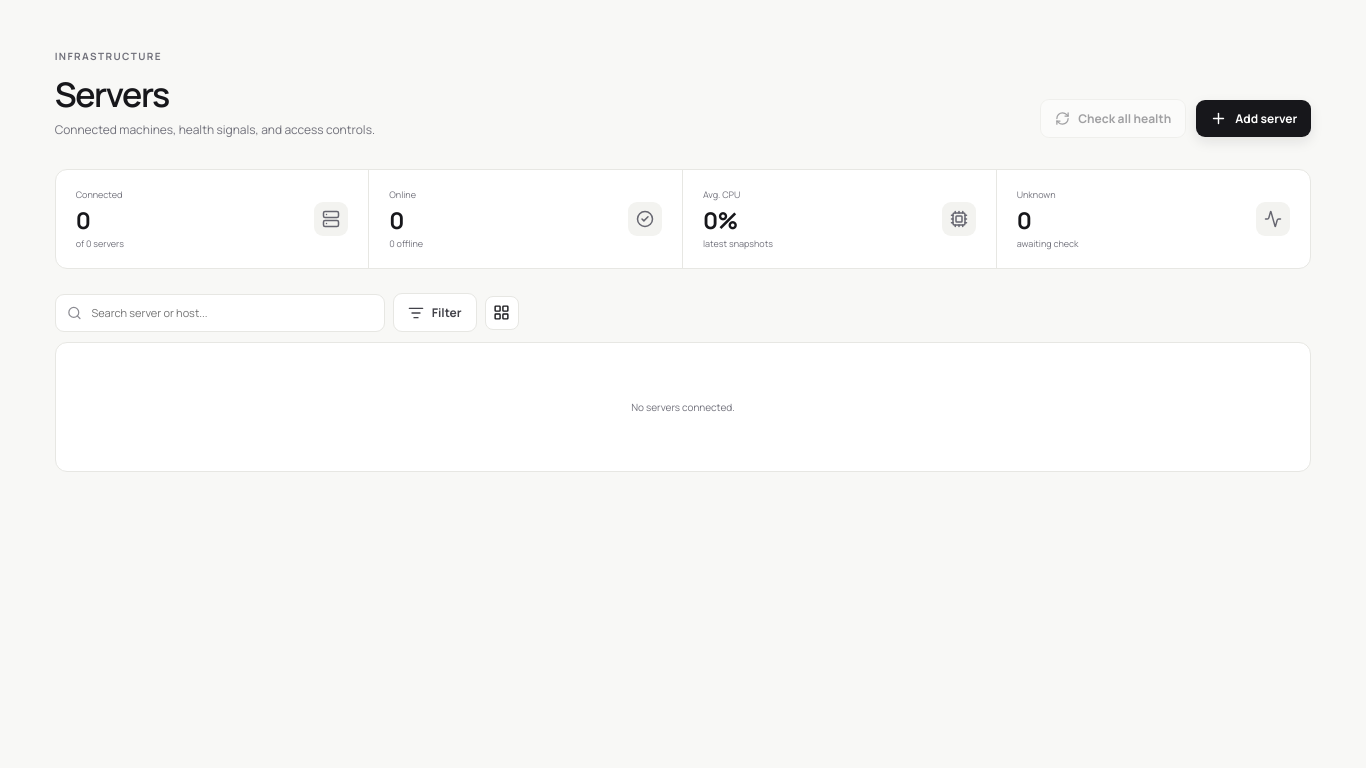
server pages › shows accessible auth tabs, defaults to key, and switches credential fields
Expected: the text "No servers connected." is shown, [55,342,1311,472]
Step 1. Click the button "Add server" → point(1254, 118), box [1196,100,1311,137]
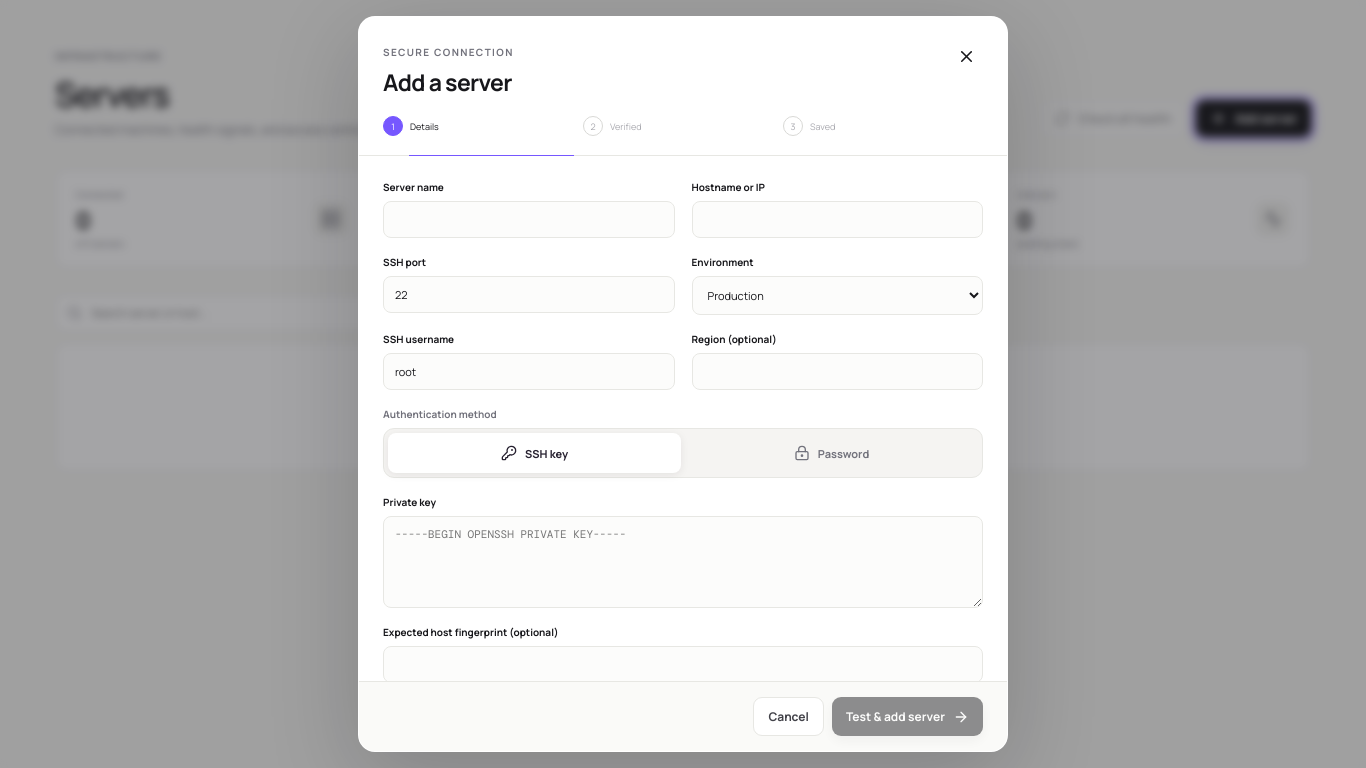
Step 2. Type "Production API" into the field labelled "Server name" → point(529, 220), box [383,201,674,238]
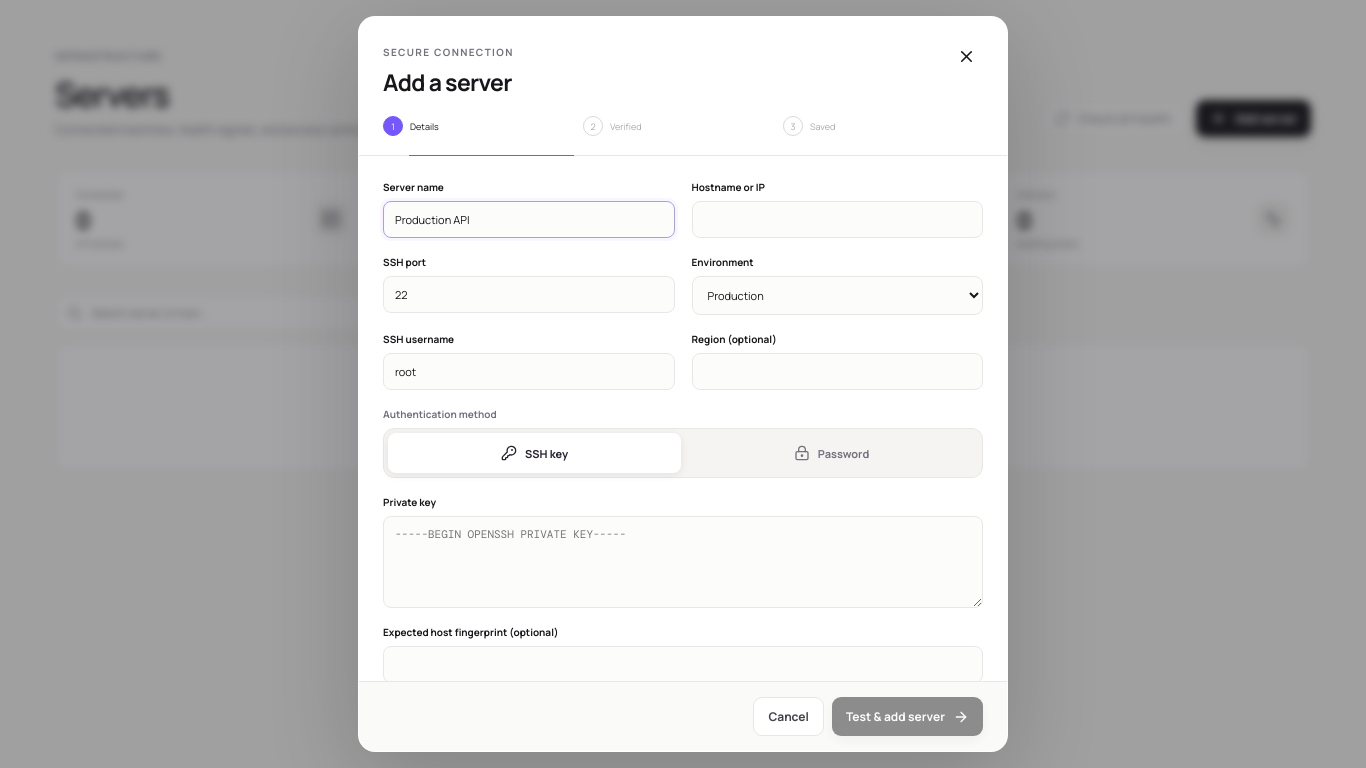
Step 3. Type "api.example.com" into the field labelled "Hostname or IP" → point(837, 220), box [692,201,983,238]
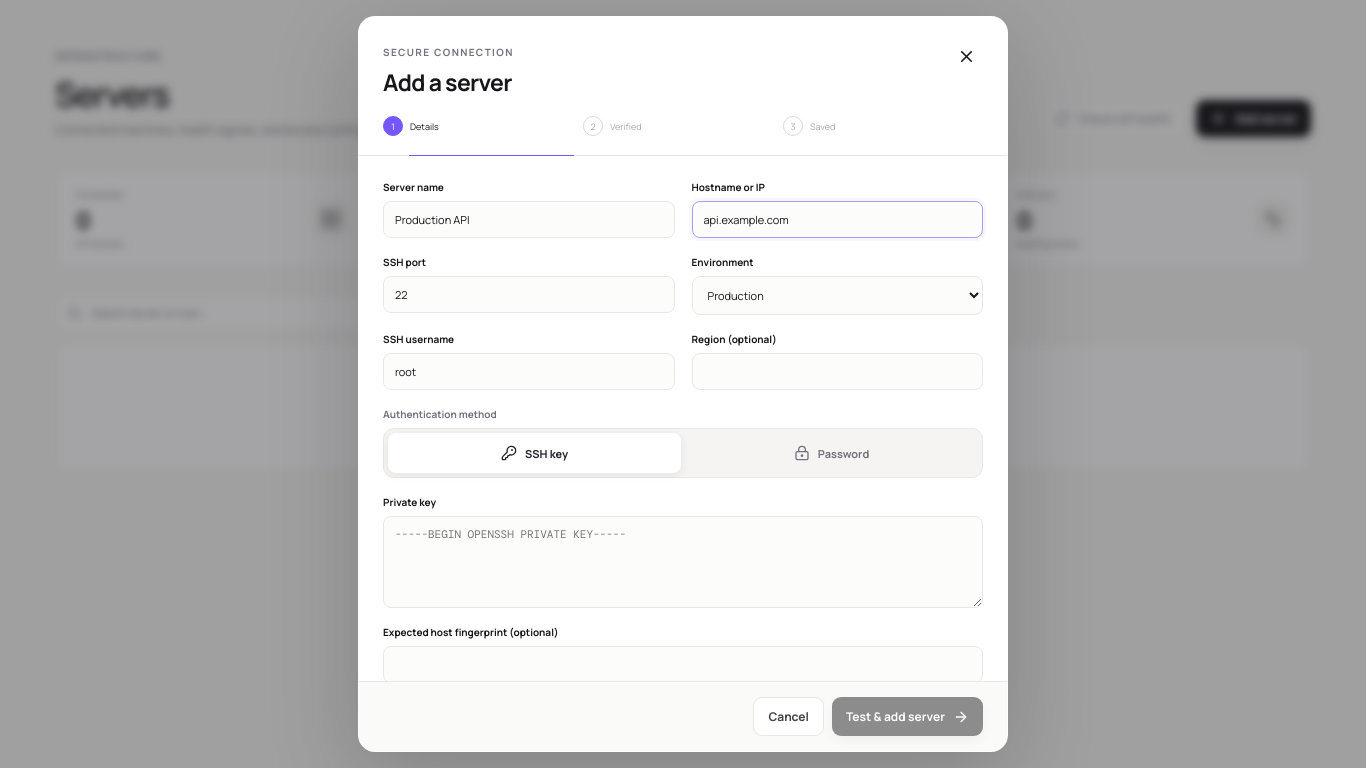
Expected: the field labelled "SSH password" is not shown
Expected: the tab "Password" is shown
Expected: the text box labelled "Private key" is shown, [383,516,983,608]
Step 4. Click the tab "Password" → point(832, 453), box [685,433,978,473]
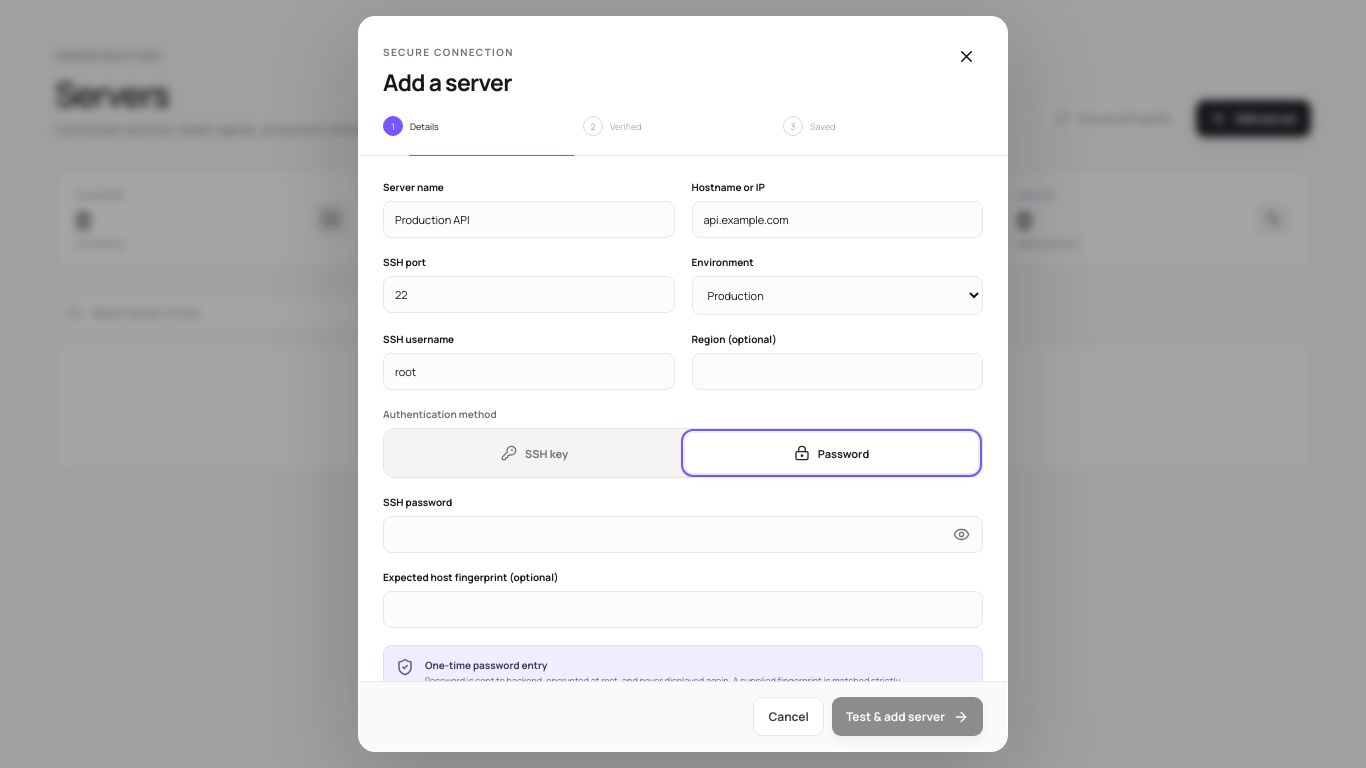
Expected: the text labelled "Private key" is gone
